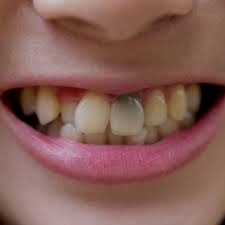Tooth Discoloration: (108, 92, 153, 126)
